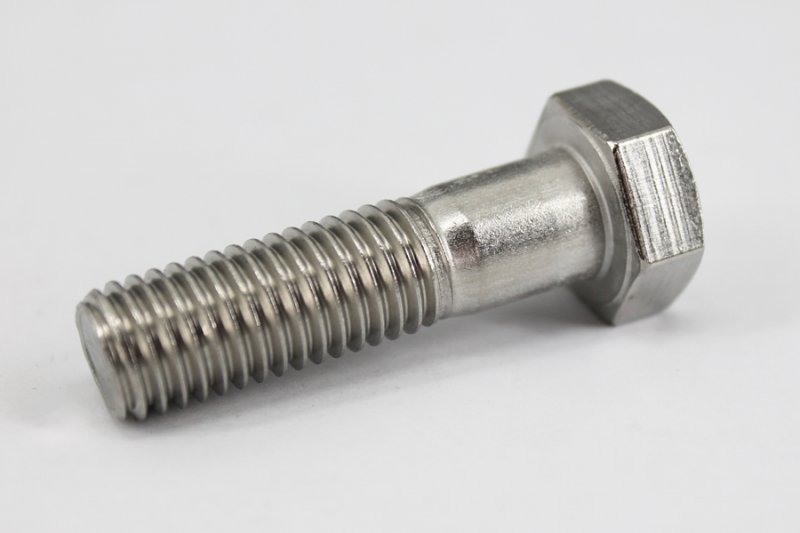screw: (76, 79, 705, 427)
